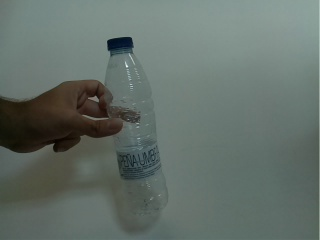botella plastico: (101, 36, 171, 215)
